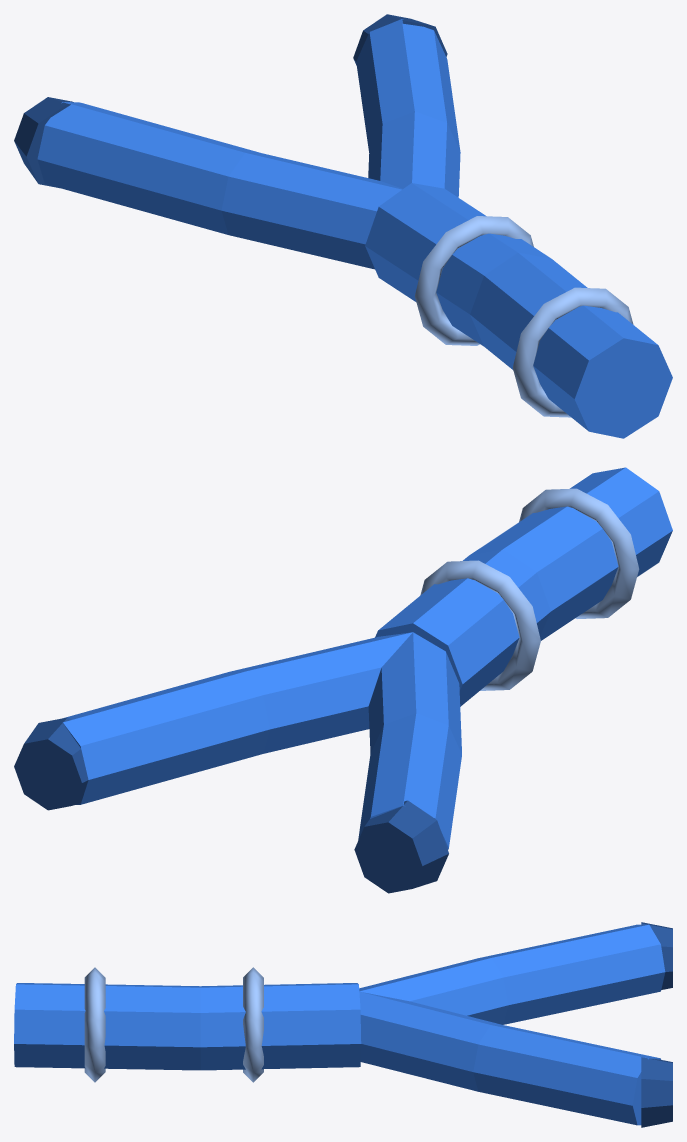
The model's file is Wood_Blue.glb.
3 views of the same model, one above another, from view 1: azimuth 30°, elevation 25°; view 2: azimuth 150°, elevation 25°; view 3: azimuth 270°, elevation 25° (orthographic). The views are drawn at different scales.
Parts seen in each view (by area): view 1: Wood_Blue_Handle, Wood_Blue_ArmL, Wood_Blue_ArmR, Wood_Blue_Band9, Wood_Blue_Band3, Wood_Blue_TipL, Wood_Blue_TipR; view 2: Wood_Blue_ArmR, Wood_Blue_Handle, Wood_Blue_ArmL, Wood_Blue_TipL, Wood_Blue_TipR, Wood_Blue_Band9, Wood_Blue_Band3; view 3: Wood_Blue_Handle, Wood_Blue_ArmR, Wood_Blue_ArmL, Wood_Blue_Band3, Wood_Blue_Band9, Wood_Blue_TipR, Wood_Blue_TipL.
Boxes of the visible parts, x1,y1,x2,y2 form: Wood_Blue_Handle: (365,183,672,438); Wood_Blue_ArmL: (37,102,402,269); Wood_Blue_ArmR: (356,19,460,197); Wood_Blue_Band9: (415,216,533,345); Wood_Blue_Band3: (512,287,633,417); Wood_Blue_TipL: (14,97,73,188); Wood_Blue_TipR: (353,14,447,65); Wood_Blue_ArmR: (62,632,412,804); Wood_Blue_Handle: (375,467,672,706); Wood_Blue_ArmL: (358,632,461,849); Wood_Blue_TipL: (354,800,448,893); Wood_Blue_TipR: (14,717,88,810); Wood_Blue_Band9: (420,560,540,690); Wood_Blue_Band3: (519,488,639,618); Wood_Blue_Handle: (14,983,361,1070); Wood_Blue_ArmR: (359,991,661,1125); Wood_Blue_ArmL: (359,924,665,1024); Wood_Blue_Band3: (84,967,105,1082); Wood_Blue_Band9: (243,967,263,1082); Wood_Blue_TipR: (641,1057,672,1127); Wood_Blue_TipL: (641,922,672,989).
Bounding box in the file's own units: 0.149 × 0.044 × 0.2497.
